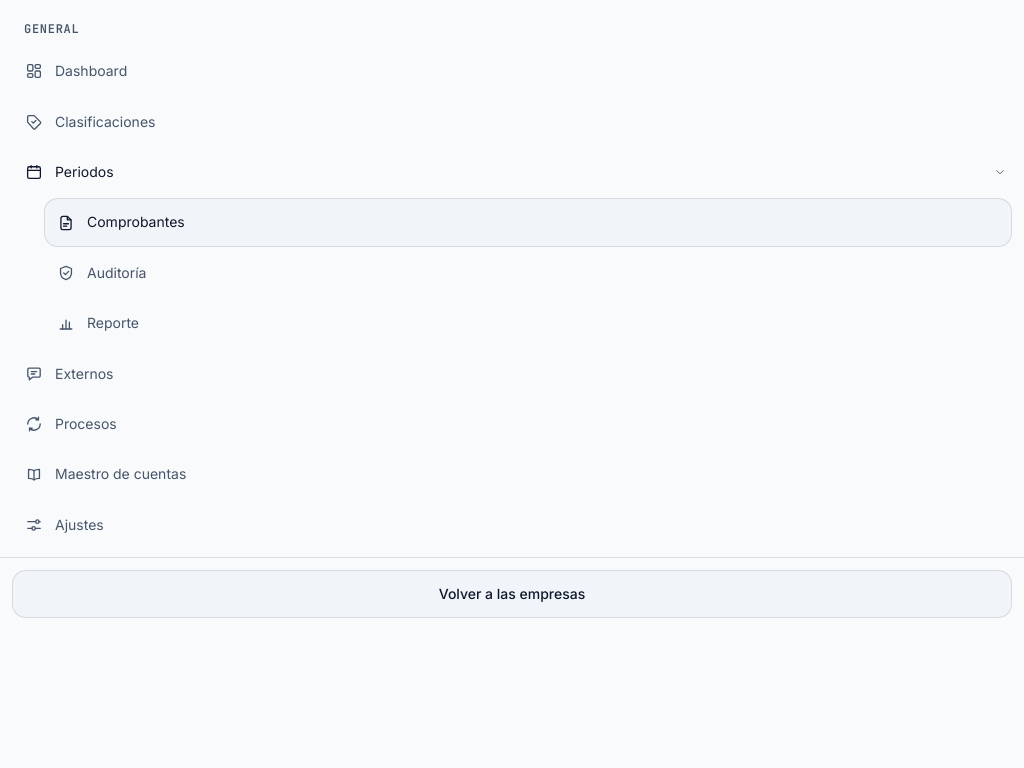
Test: barra lateral › el segundo nivel se puede contraer a mano
Click the button named "Contraer Periodos".
click(1000, 172)  # box [988,160,1012,184]
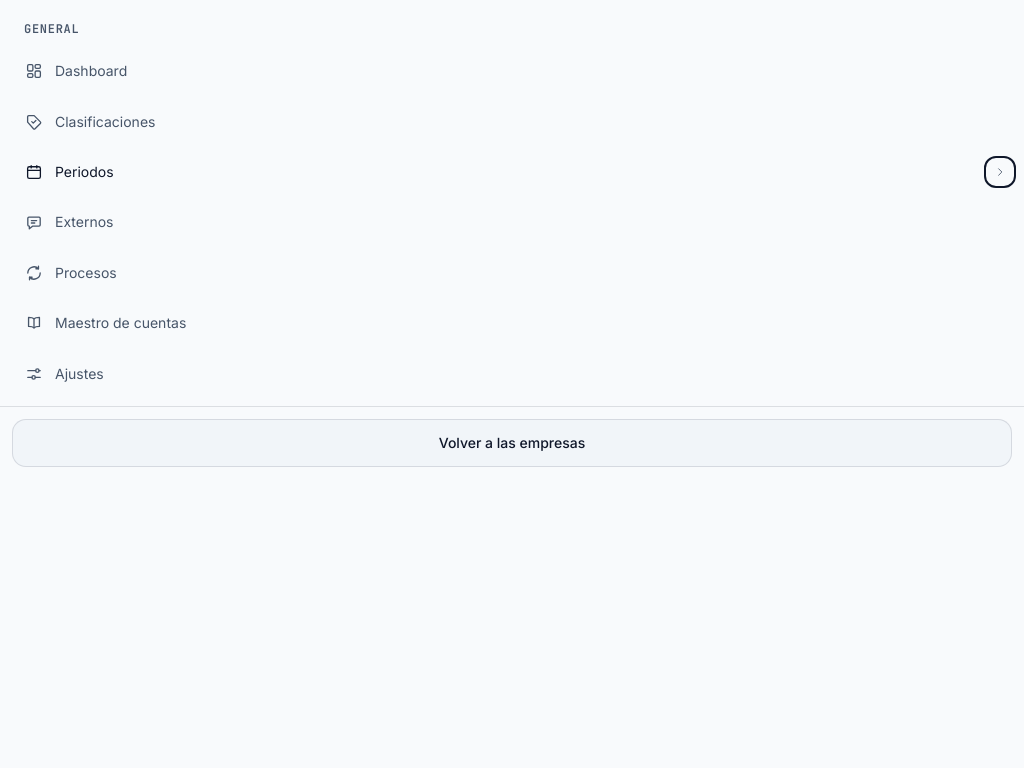
Now the button named "Desplegar Periodos" is collapsed, box [988,160,1012,184]
Now the link "Auditoría" is gone
